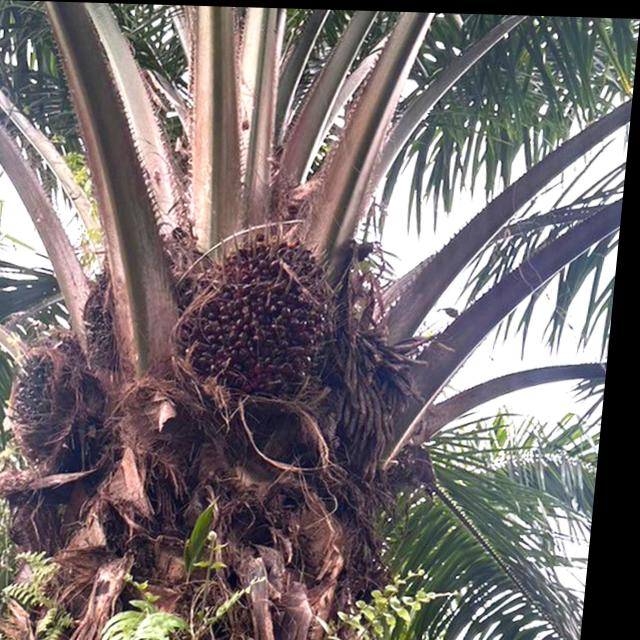ripe: (177, 222, 344, 391), (16, 334, 121, 462)
